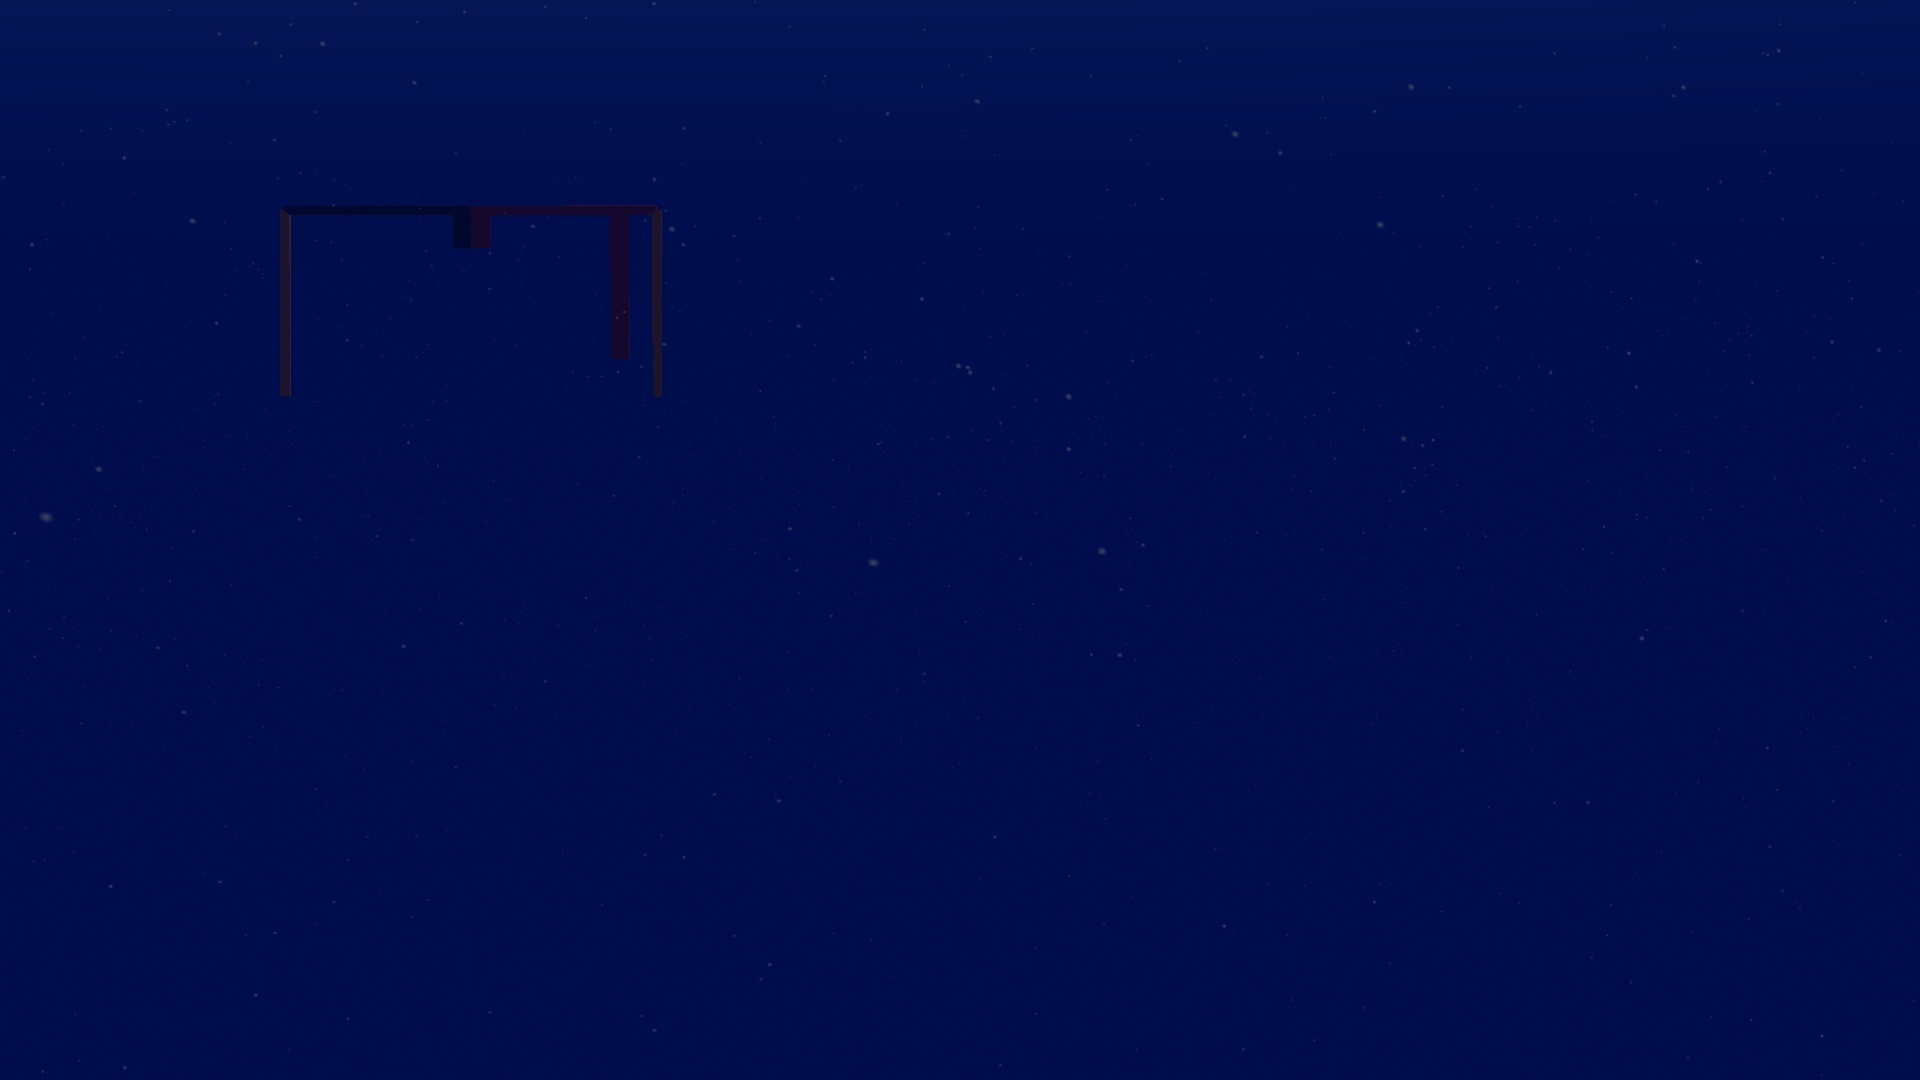Gate: (269, 196, 675, 415)
